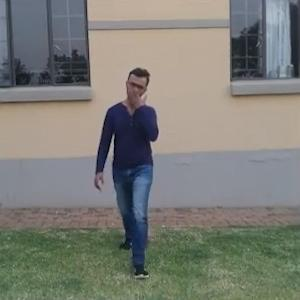follow: (107, 68, 164, 250)
